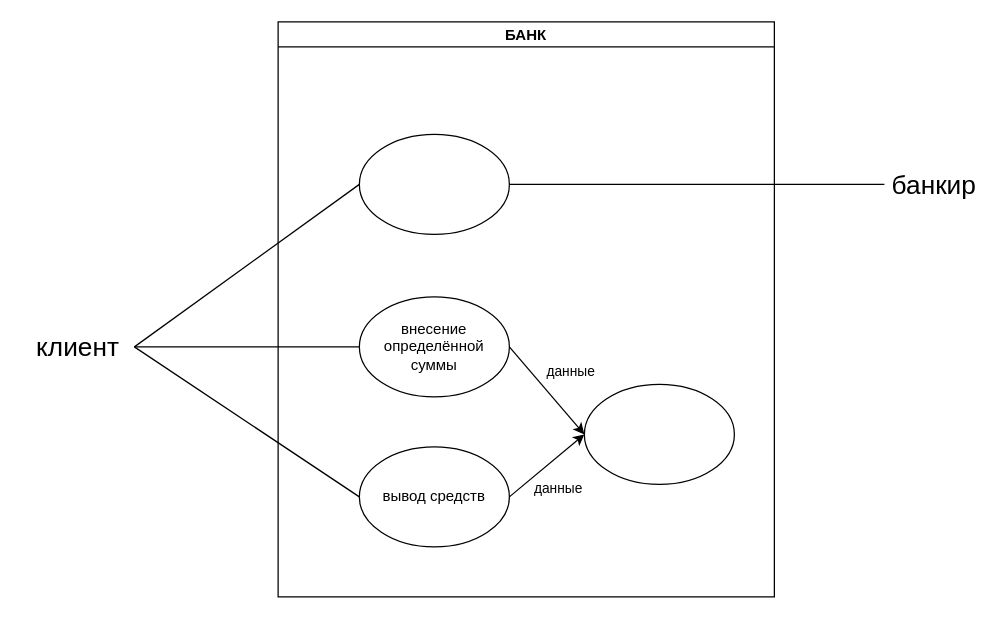
The diagram is 1005 pixels wide and 619 high, and some of its shapes have lost their labels. The centre of each missing label's shape, as x and y in pixels:
обновление баланса: point (658, 433)
открытие кассы: point (433, 183)
